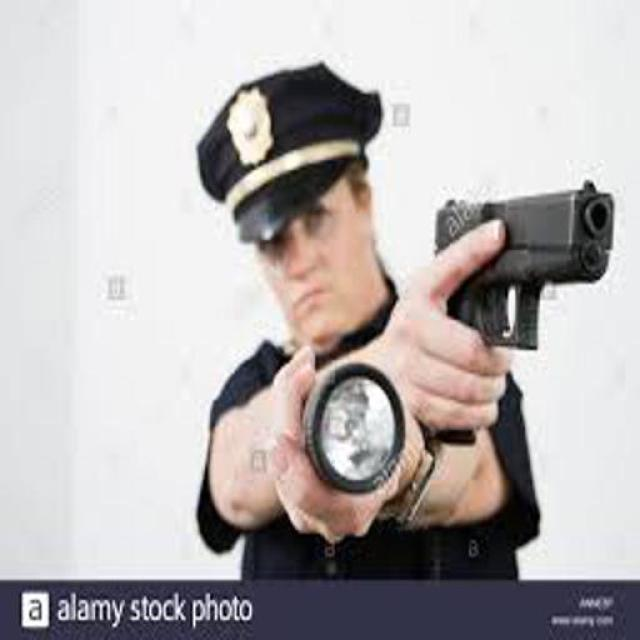pistol: (431, 180, 620, 452)
